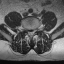CCS_stenosis: (30, 28, 32, 38)
LFS_normal: (34, 26, 36, 34)
LLS_normal: (32, 28, 34, 36)
RFS_normal: (25, 26, 27, 34)
RLS_normal: (27, 28, 30, 37)
